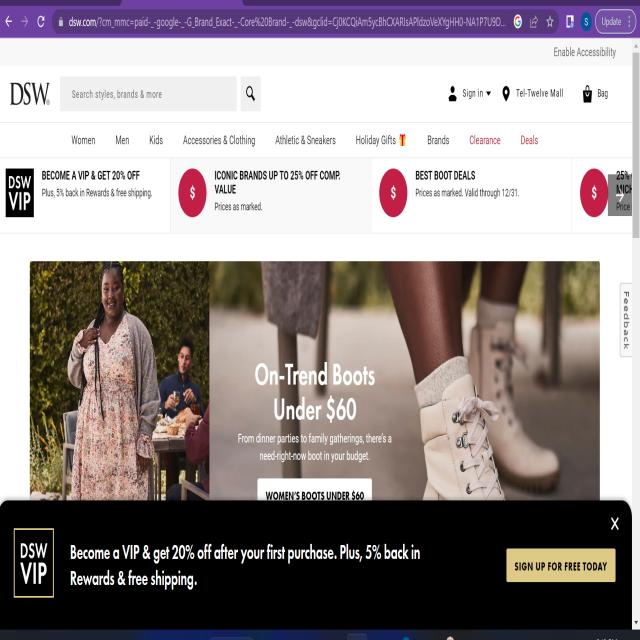sneaking: (472, 493, 640, 636)
